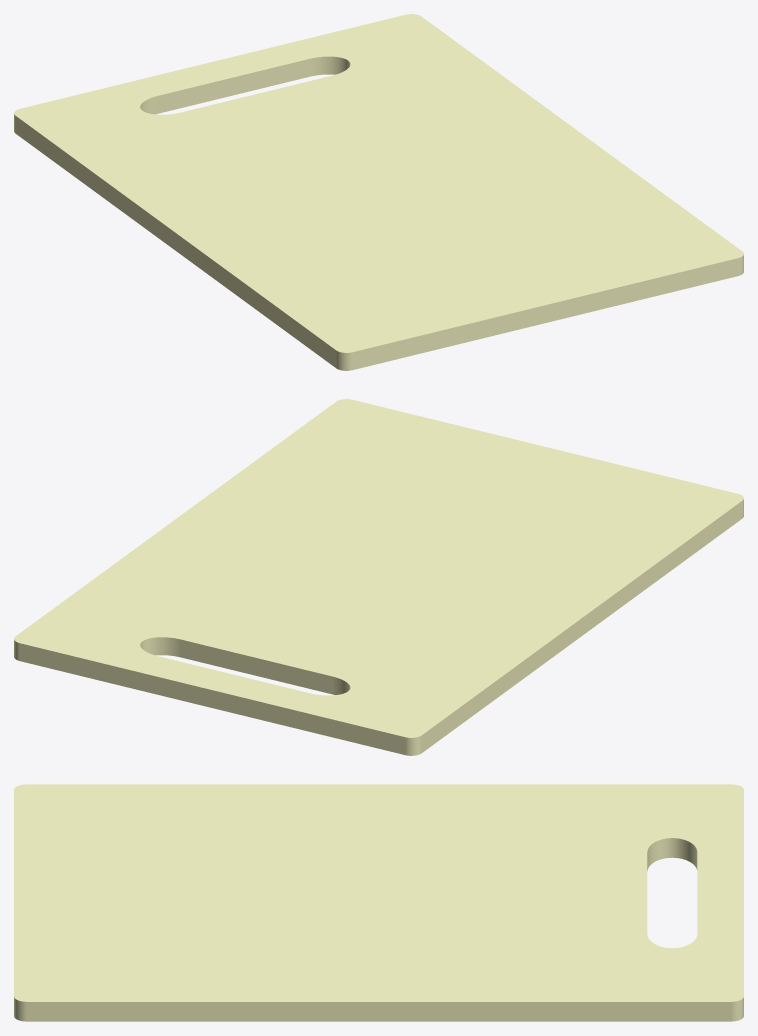
File: まな板.fbx
3 renders of one model, top to bottom at view 1: azimuth 30°, elevation 25°; view 2: azimuth 150°, elevation 25°; view 3: azimuth 270°, elevation 25°, orthographic. The views are drawn at different scales.
Parts seen in each view (by area): view 1: pCube3; view 2: pCube3; view 3: pCube3.
Part boxes in pixels (x1=…): pCube3: x1=14, y1=14, x2=743, y2=370; pCube3: x1=14, y1=399, x2=743, y2=755; pCube3: x1=14, y1=784, x2=743, y2=1021.
Bounding box in the file's own units: 1.58 × 0.0668 × 2.24.
